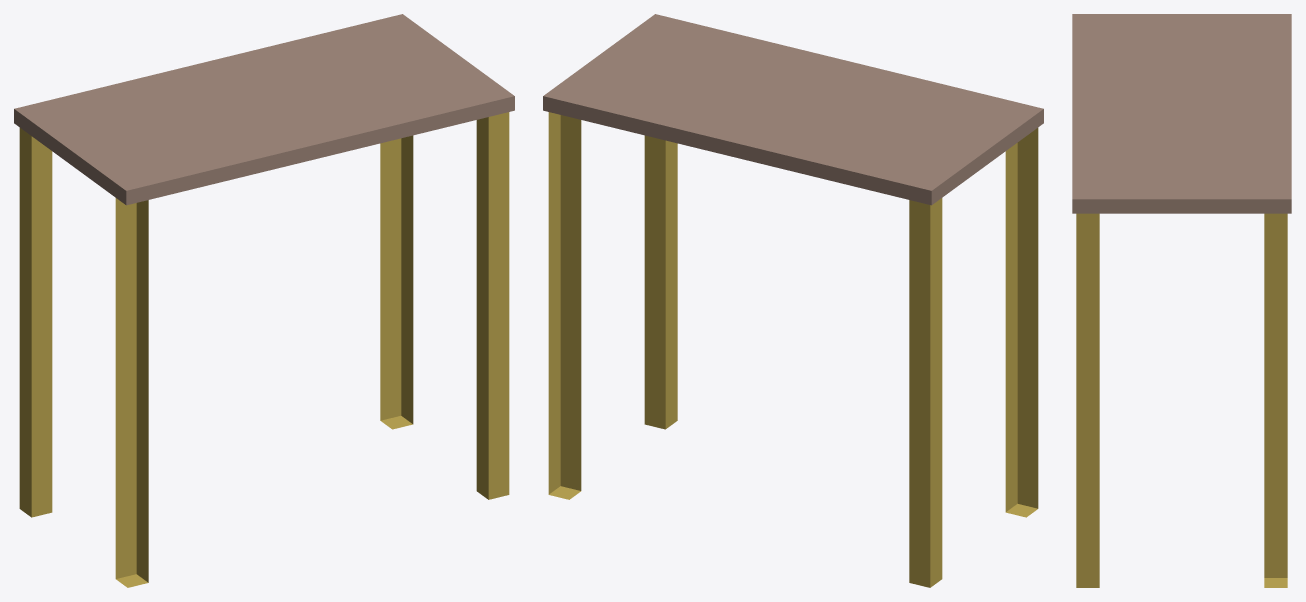
File: table.glb
3 views of the same model, side by side, from view 1: azimuth 30°, elevation 25°; view 2: azimuth 150°, elevation 25°; view 3: azimuth 270°, elevation 25° (orthographic). The views are drawn at different scales.
Visible parts, largest first — view 1: tabletop, legs; view 2: tabletop, legs; view 3: tabletop, legs.
Boxes of the visible parts, x1,y1,x2,y2 form: tabletop: [14, 14, 514, 205]; legs: [19, 112, 509, 587]; tabletop: [543, 14, 1043, 205]; legs: [548, 112, 1038, 587]; tabletop: [1072, 14, 1291, 213]; legs: [1076, 213, 1287, 587].
Bounding box in the file's own units: 2.8 × 2.75 × 1.4.
